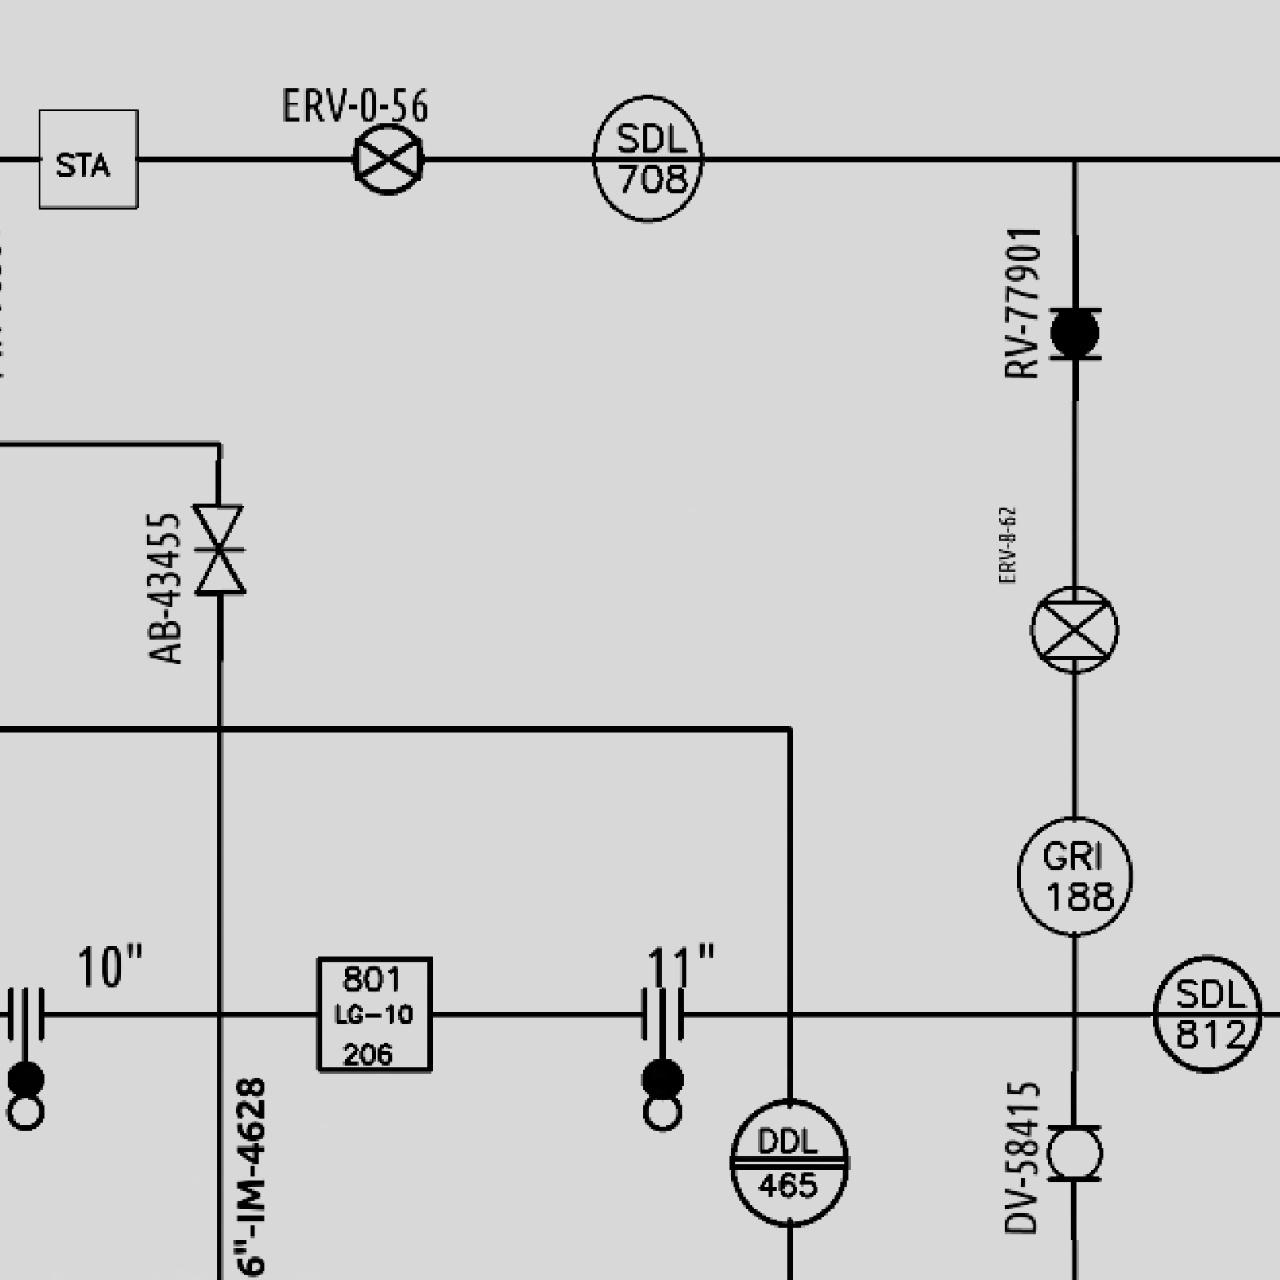Control-Panel: (720, 1094, 857, 1231)
